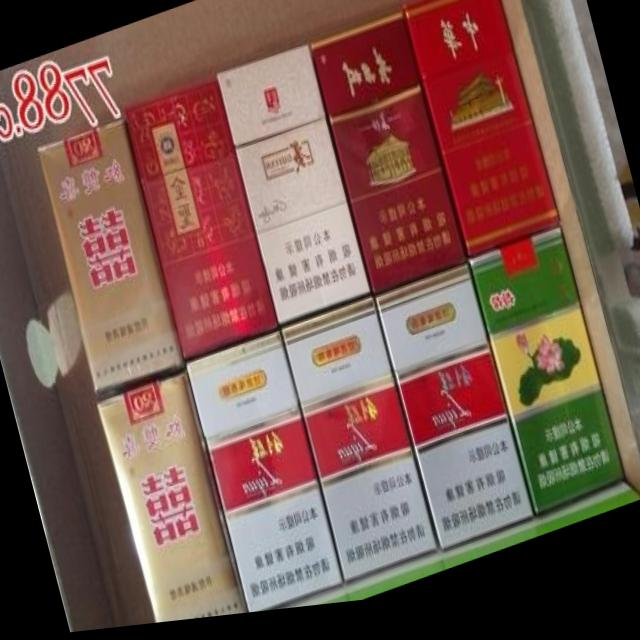box: (373, 273, 534, 561), (280, 303, 440, 589), (469, 241, 627, 529), (307, 20, 468, 301), (183, 336, 343, 618), (214, 52, 372, 332), (124, 83, 280, 366), (402, 0, 561, 271), (36, 121, 184, 401), (96, 376, 248, 626)
